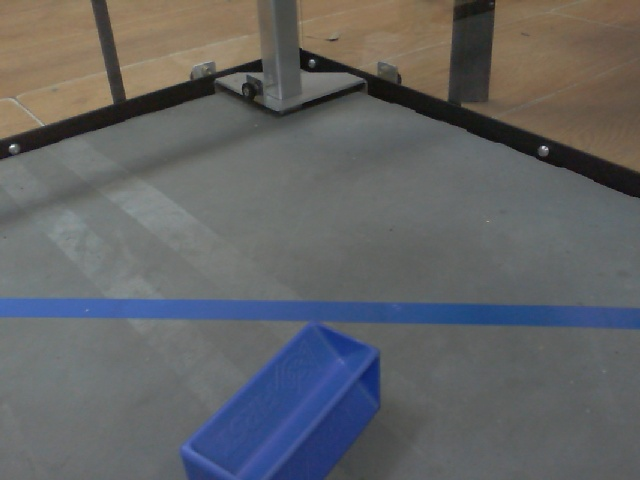BlueSample: (179, 319, 384, 480)
